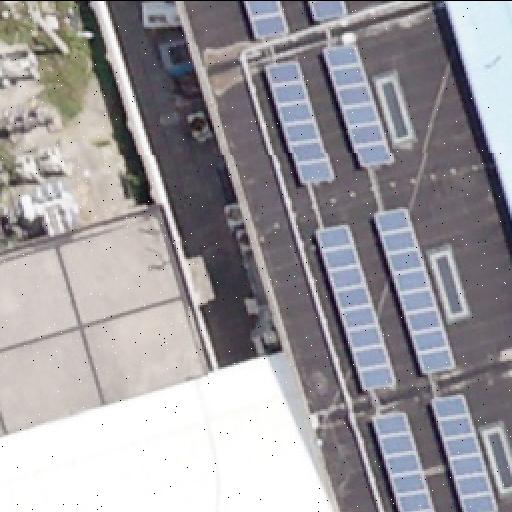solar-panel: (369, 201, 455, 375), (314, 222, 390, 390), (322, 42, 394, 166), (425, 388, 495, 512), (263, 55, 329, 185), (367, 408, 433, 512), (244, 1, 284, 39), (306, 1, 346, 23)
